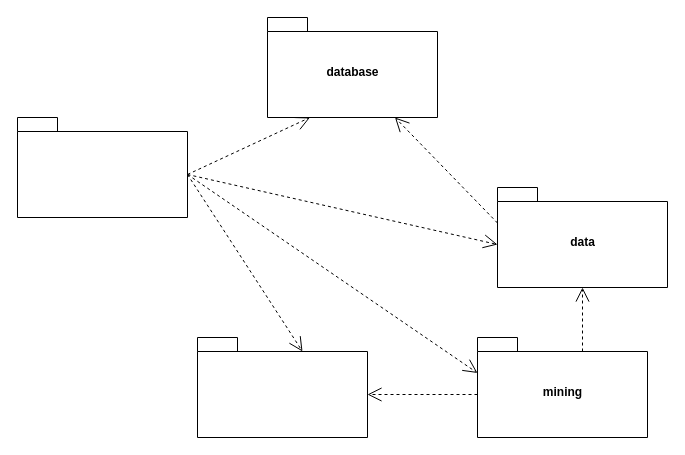
This 685x455 diagram has some shape labels left out. Each missing label, with the centre of its shape:
"server" belongs at point (102, 167).
"utility" belongs at point (282, 387).
